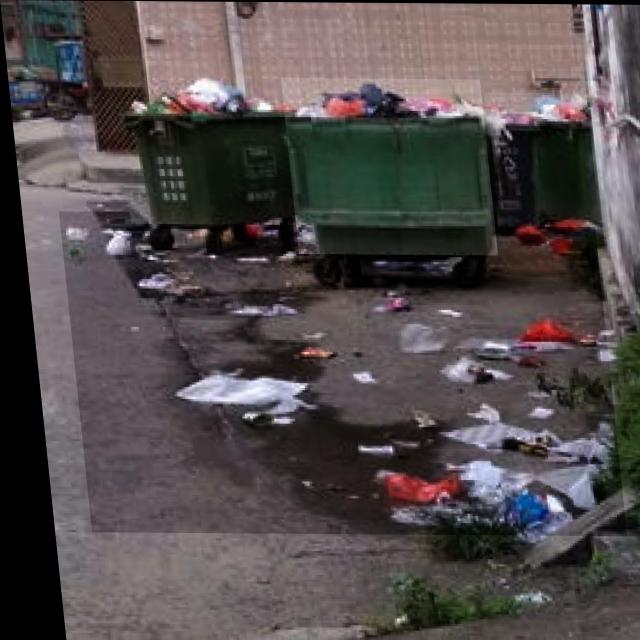garbage: (54, 211, 615, 535)
overflow: (279, 78, 493, 254), (114, 75, 296, 224), (482, 92, 595, 226)
